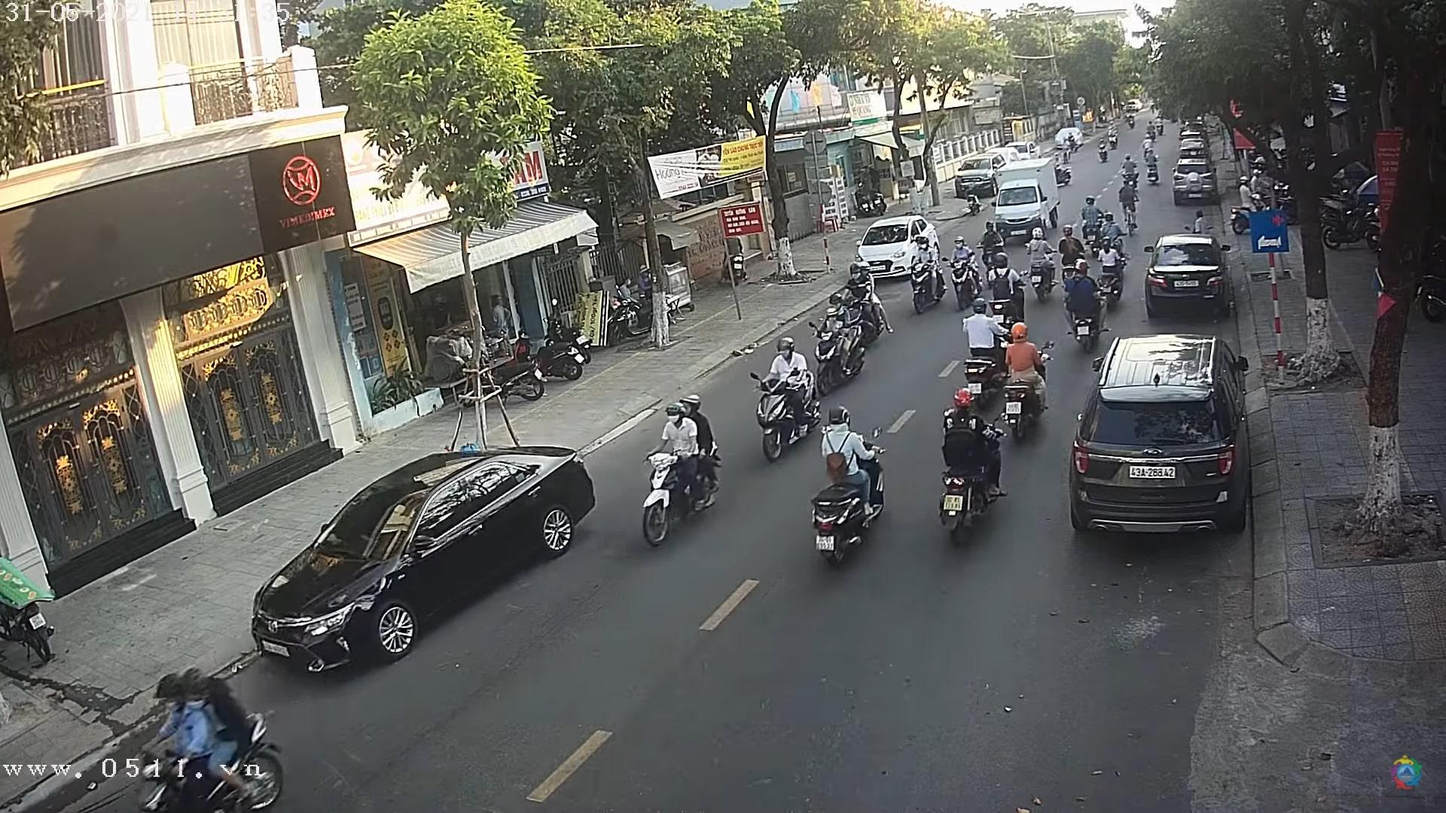car: (249, 440, 604, 687), (1072, 332, 1252, 534), (1145, 234, 1234, 320), (855, 214, 934, 274), (955, 169, 1005, 199)
motorbike: (810, 441, 899, 570), (637, 428, 726, 550), (938, 416, 1010, 548), (746, 360, 822, 466), (1000, 343, 1057, 438), (810, 311, 863, 392), (908, 252, 944, 316), (946, 254, 982, 313)
truck: (989, 166, 1059, 241)
